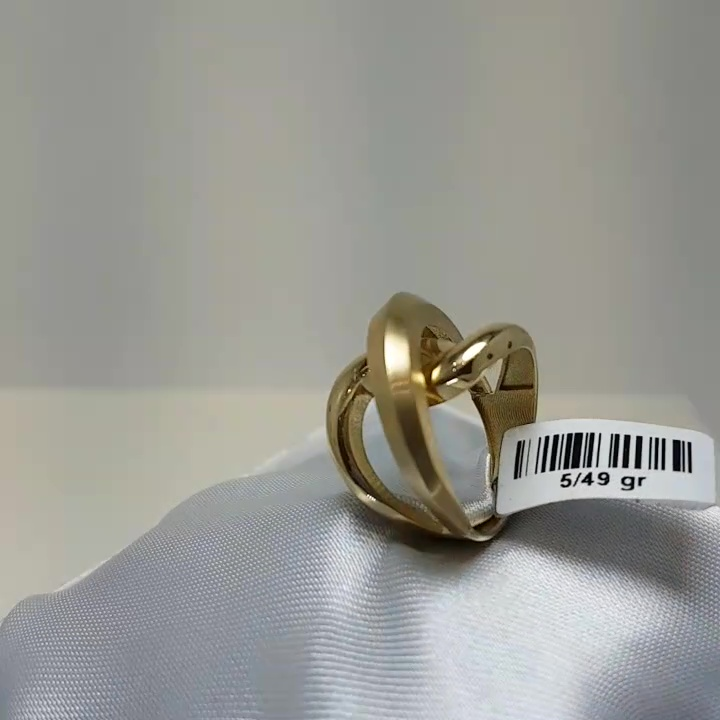Ring 3: (297, 274, 560, 578)
